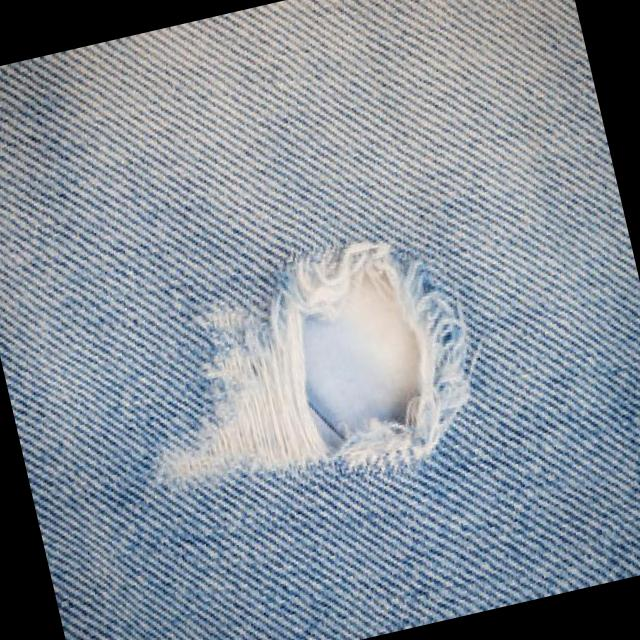hole: (126, 210, 492, 529)
